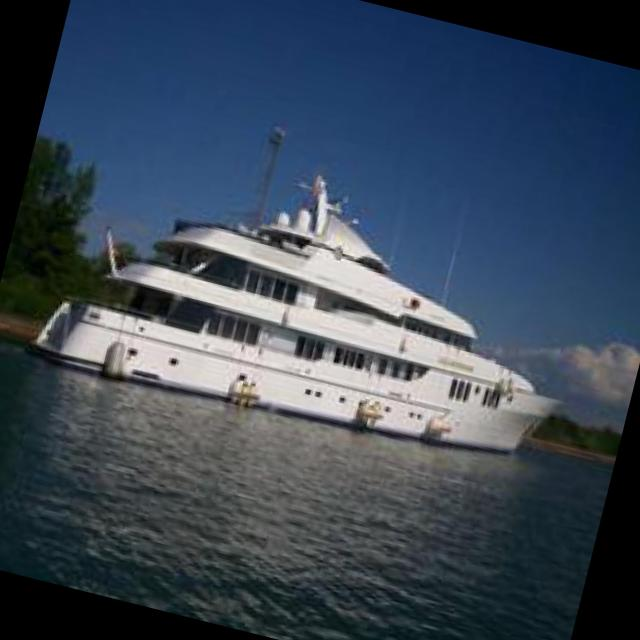boat: (18, 136, 590, 502)
